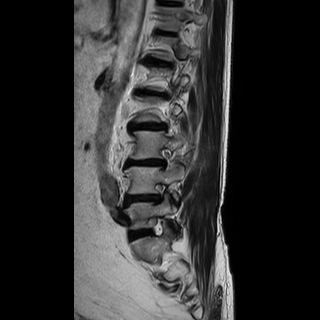LFS2: (149, 178, 171, 208), (153, 145, 175, 174)
